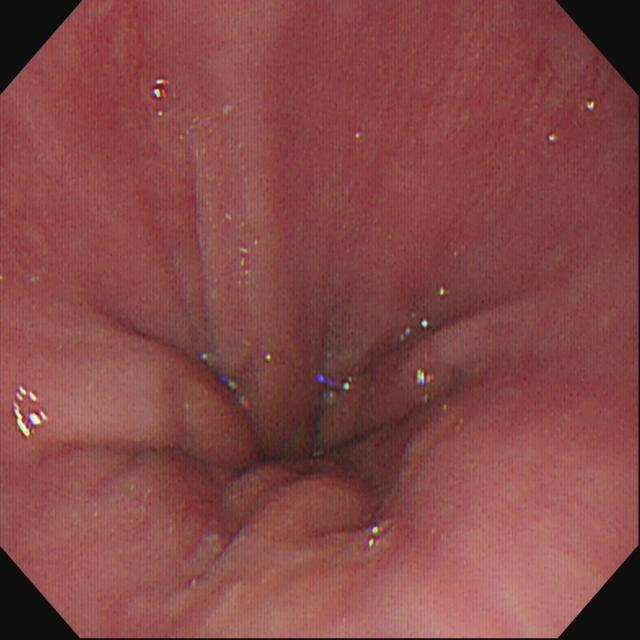U: (13, 387, 50, 439), (154, 78, 171, 100), (417, 368, 437, 386)
